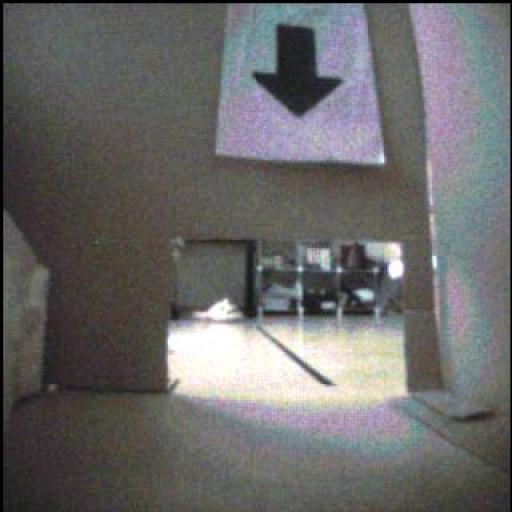arrow: (254, 25, 343, 118)
